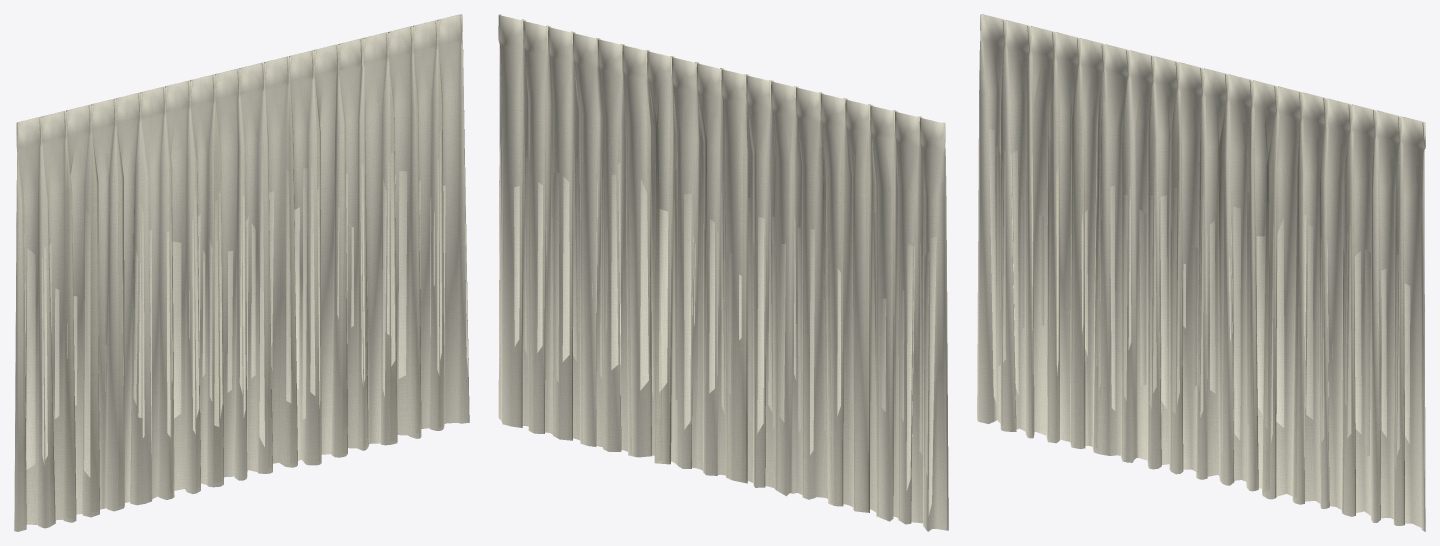
The model's file is curtain.obj.
3 renders of one model, left to right at view 1: azimuth 30°, elevation 25°; view 2: azimuth 150°, elevation 25°; view 3: azimuth 330°, elevation 25°, orthographic.
Parts seen in each view (by area): view 1: Plane; view 2: Plane; view 3: Plane.
Boxes of the visible parts, <box> form: Plane: <box>14,14,469,531</box>; Plane: <box>498,14,948,531</box>; Plane: <box>977,14,1425,531</box>.
Bounding box in the file's own units: 111 × 96.64 × 4.97.
Materials: 1 (1 with a texture image).
